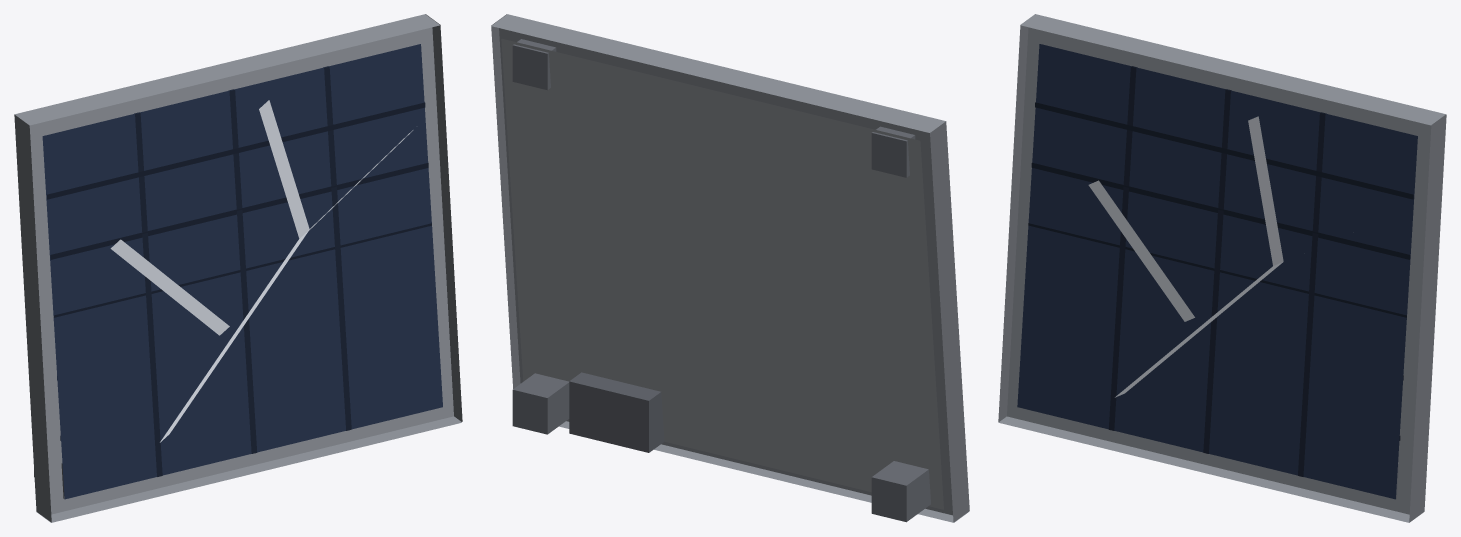
File: array_flat_standard_cracked_S.obj
3 views of the same model, side by side, from view 1: azimuth 30°, elevation 25°; view 2: azimuth 150°, elevation 25°; view 3: azimuth 330°, elevation 25° (orthographic). The views are drawn at different scales.
Visible parts, largest first — view 1: array_flat_standard_cracked_S; view 2: array_flat_standard_cracked_S; view 3: array_flat_standard_cracked_S.
Part boxes in pixels (left/top/right/bottom): array_flat_standard_cracked_S: left=14, top=14, right=462, bottom=522; array_flat_standard_cracked_S: left=491, top=14, right=969, bottom=522; array_flat_standard_cracked_S: left=998, top=14, right=1446, bottom=522.
Bounding box in the file's own units: 0.881 × 0.781 × 0.142.
1 material, 1 textured.
